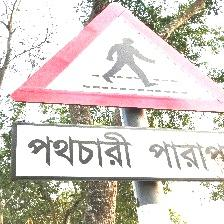Pedestrian-crossing: (7, 0, 224, 183)
